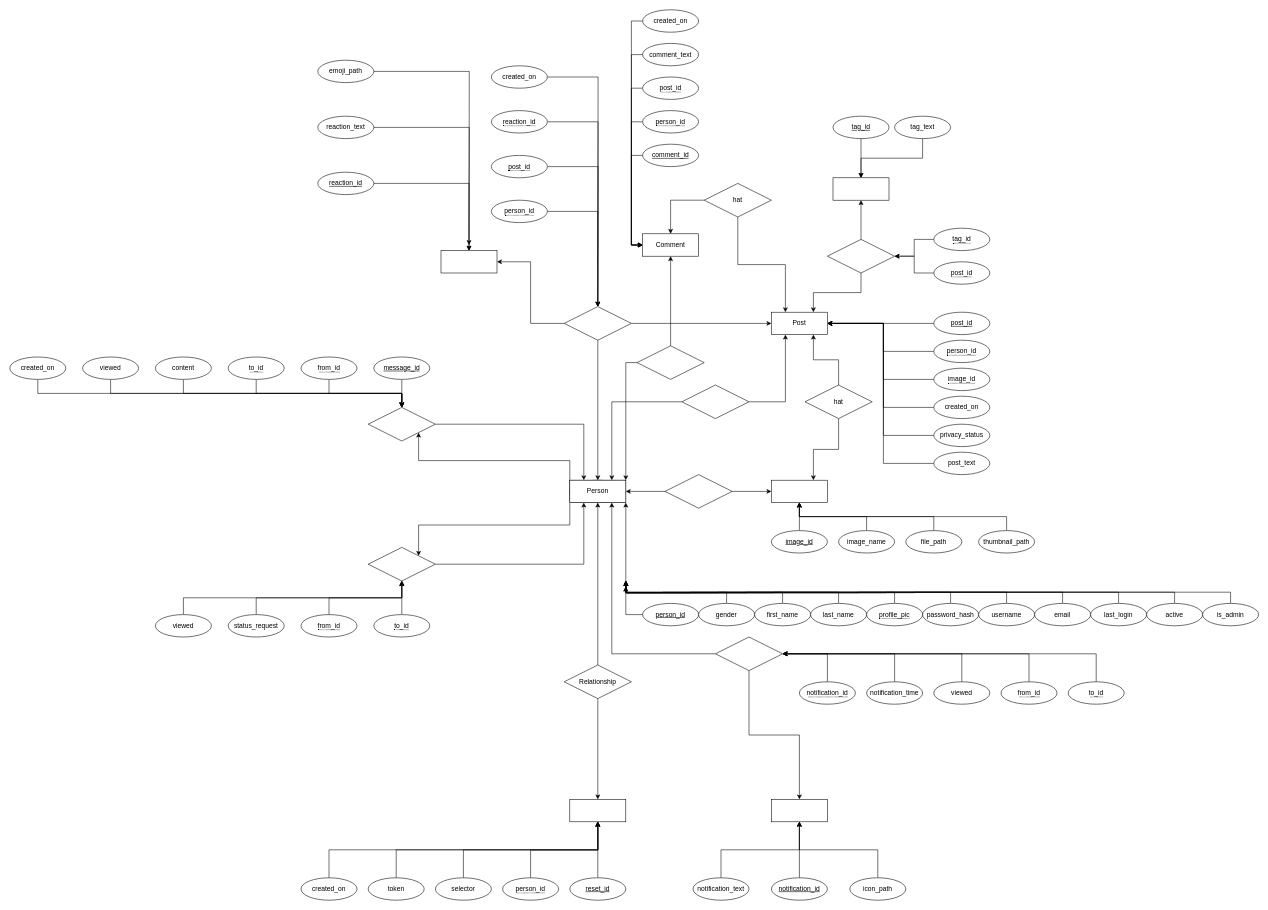
Image size: 1268x910. Some labels were removed from this diagram. Each missing label, with the centre of its shape:
"commented" goes at pixel 670 362.
"Friends" goes at pixel 401 564.
"has" goes at pixel 698 491.
"Images" goes at pixel 799 491.
"Message" goes at pixel 401 424.
"Notification" goes at pixel 799 810.
"notifies" goes at pixel 749 653.
"posted" goes at pixel 715 401.
"PW_reset" goes at pixel 597 810.
"r/p/p" goes at pixel 597 323.
"Reaction" goes at pixel 468 261.
"Tag" goes at pixel 860 188.
"Tag list" goes at pixel 861 256.
